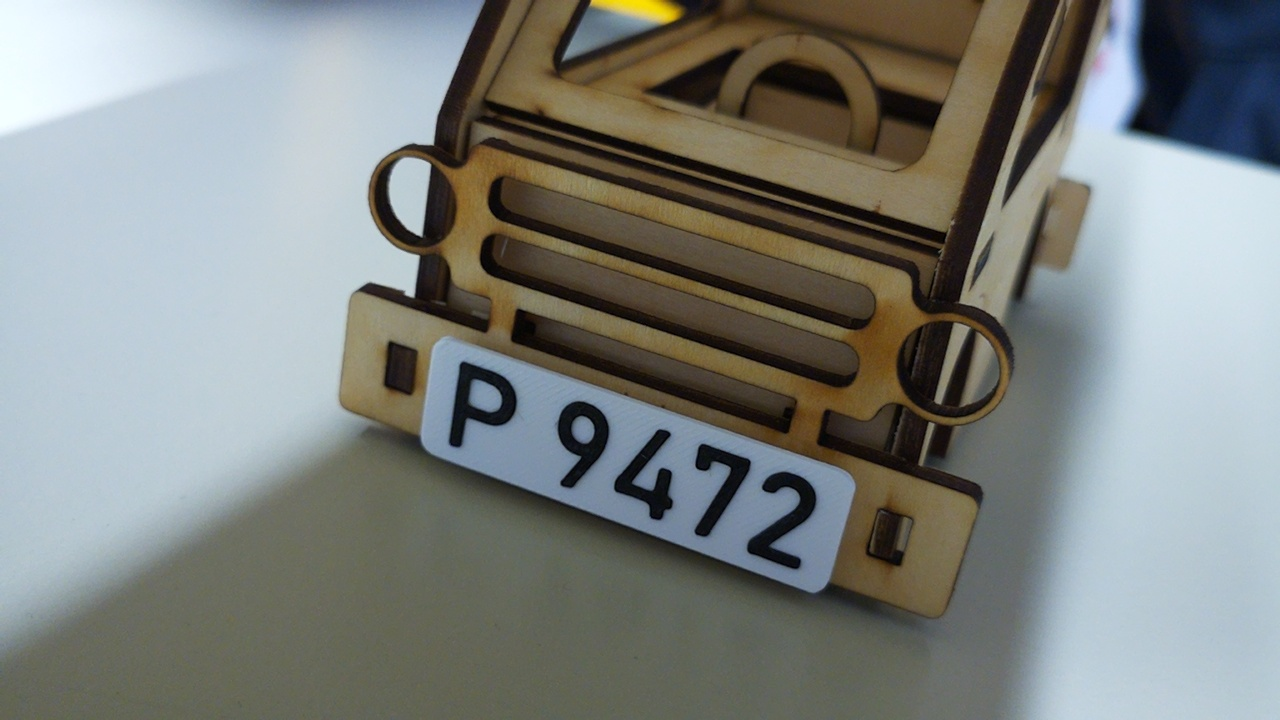license_plate: (419, 334, 859, 599)
